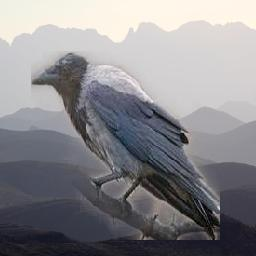Crow: (32, 52, 221, 241)
